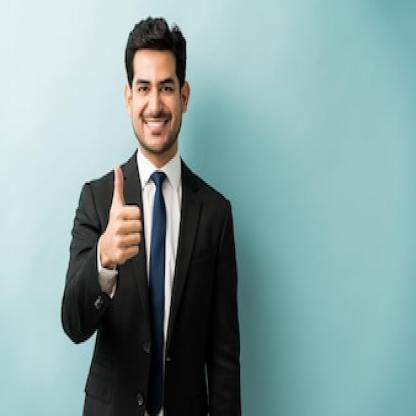thumb_up: (100, 162, 144, 268)
